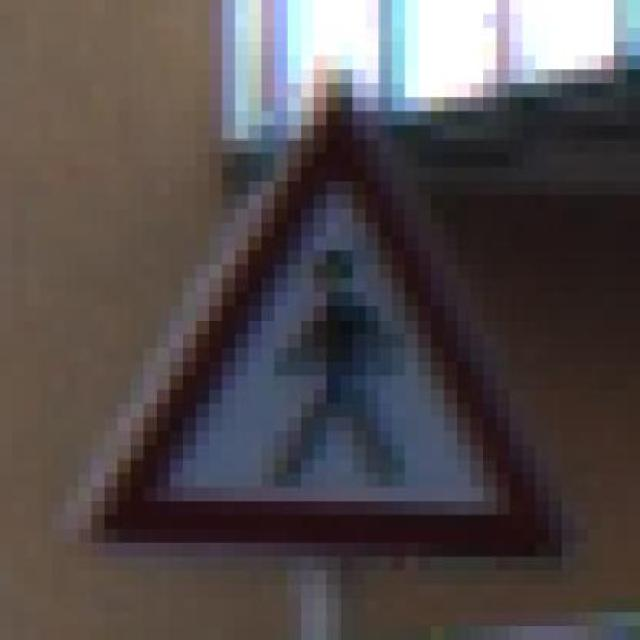Pedestrian Crossing: (65, 56, 588, 570)
